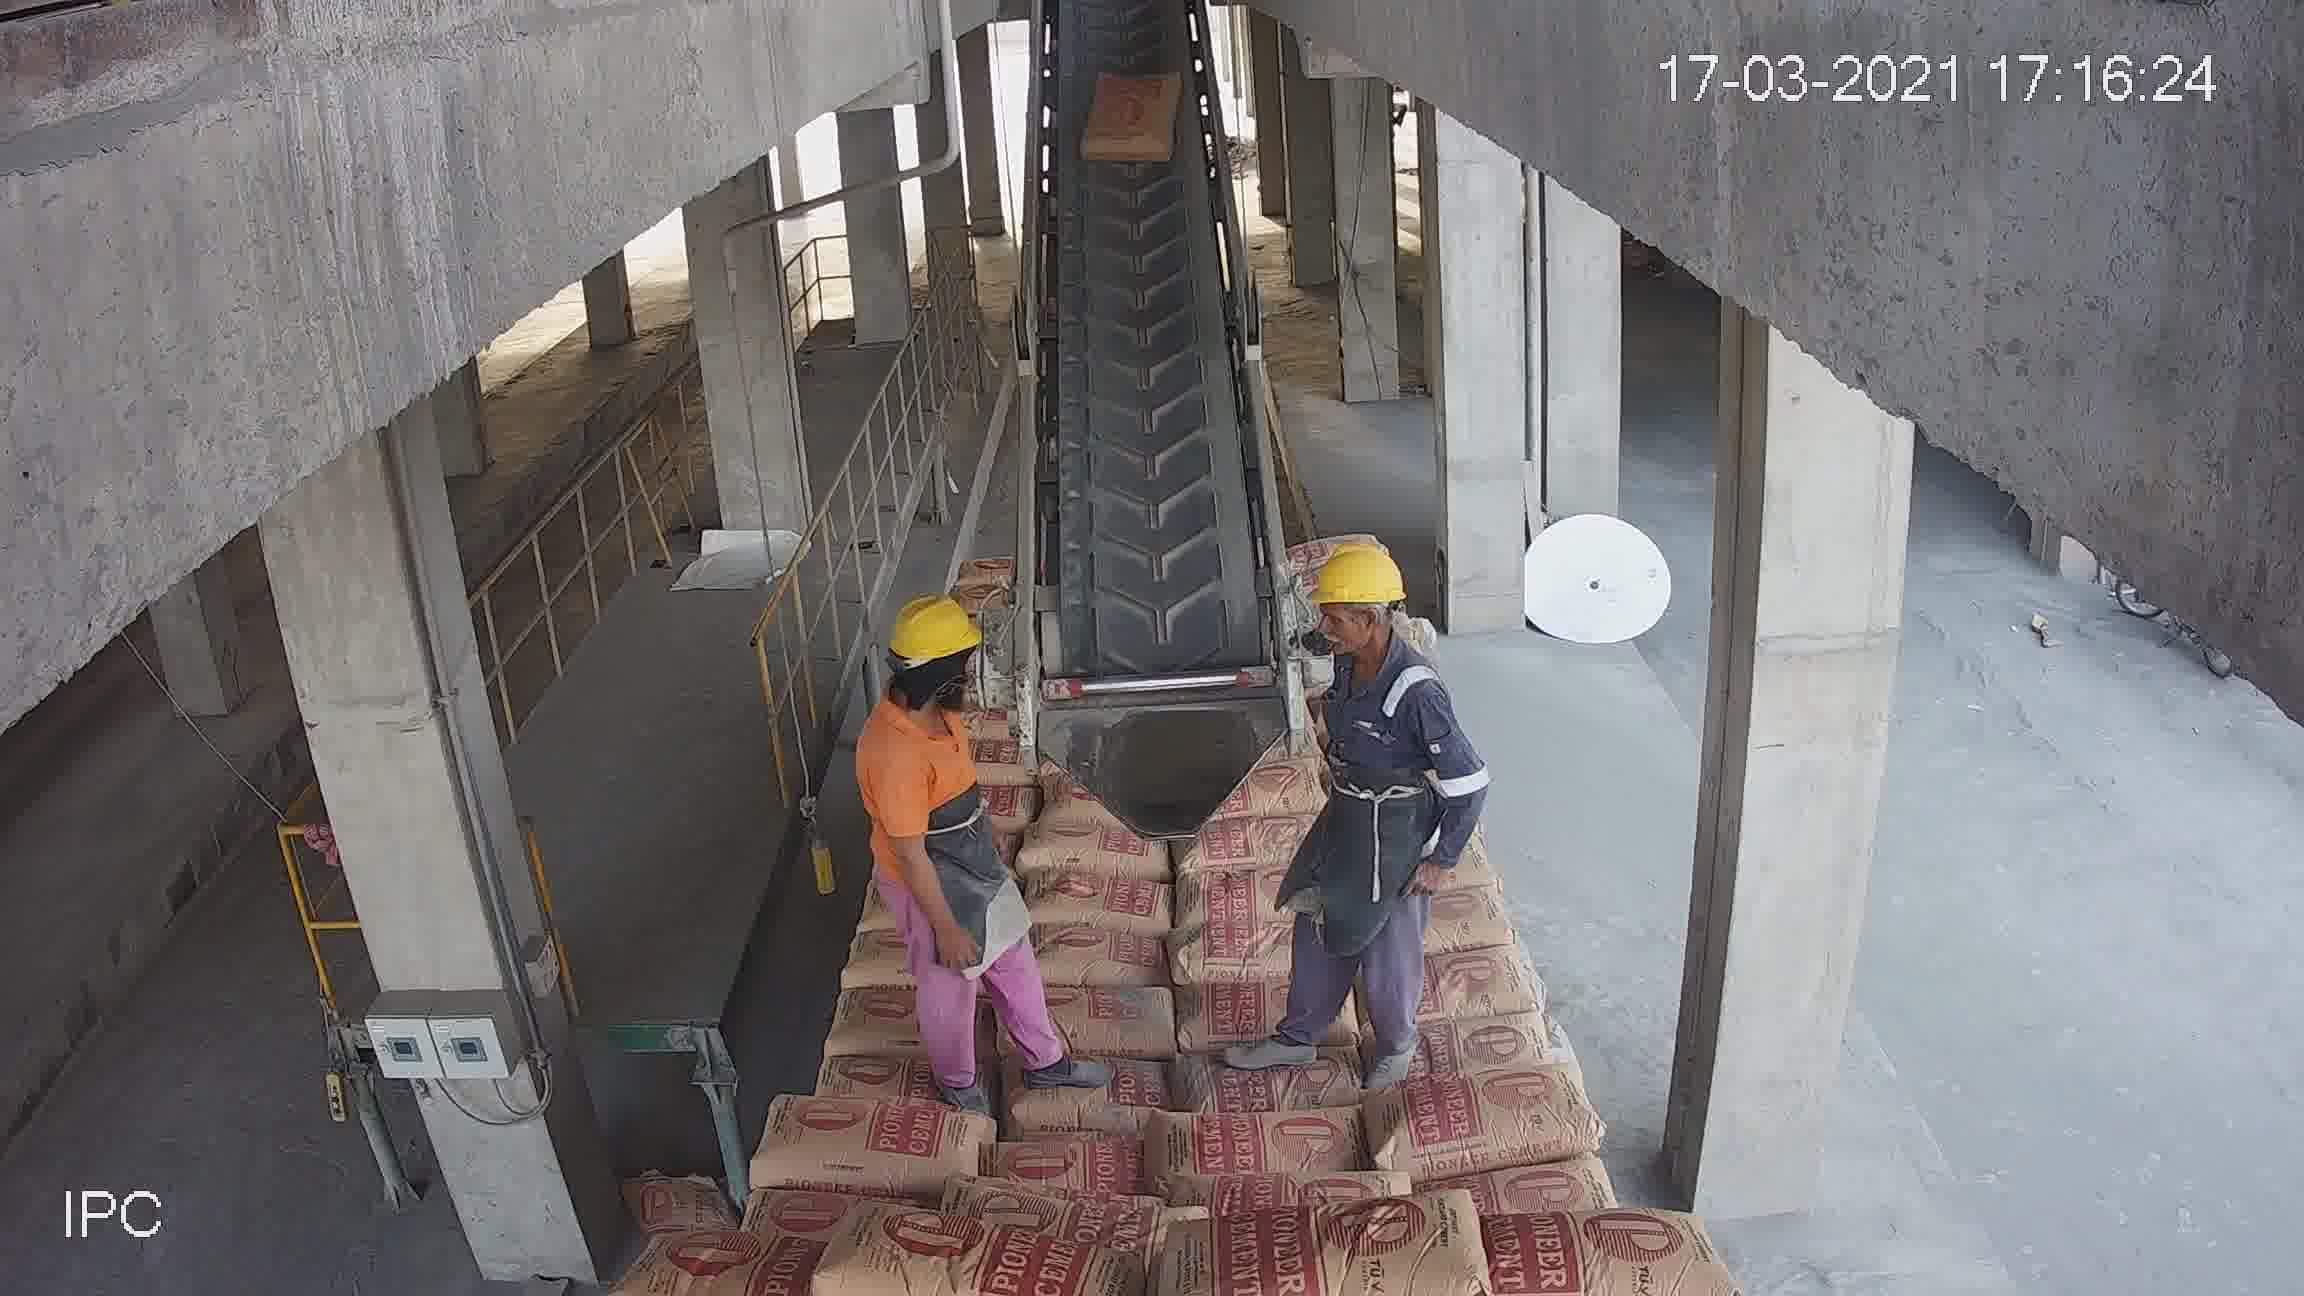bag: (1079, 66, 1177, 165)
bag_h: (1203, 1176, 1543, 1294), (1347, 1060, 1601, 1188), (791, 1215, 1131, 1296), (1432, 1203, 1700, 1294), (753, 1097, 999, 1195), (1149, 1103, 1375, 1198), (1179, 1032, 1364, 1114), (1003, 1048, 1185, 1128), (638, 1228, 847, 1294), (796, 1040, 972, 1109), (991, 1143, 1165, 1211), (1416, 946, 1540, 1038), (810, 986, 938, 1073), (1416, 1005, 1571, 1074), (1051, 981, 1179, 1062), (1177, 862, 1291, 948), (1040, 869, 1173, 942), (1171, 927, 1305, 991), (1032, 821, 1158, 883), (1188, 812, 1302, 878), (1040, 927, 1154, 992), (1185, 981, 1291, 1041)
belt: (1021, 63, 1298, 782)
